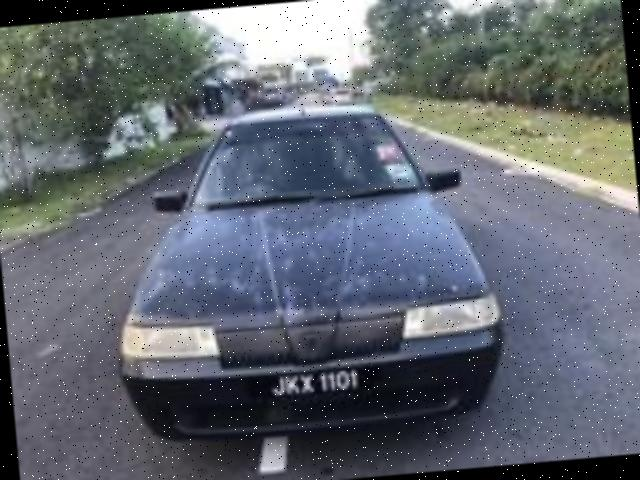License_Plate: (247, 364, 381, 410)
car: (100, 87, 507, 444)
